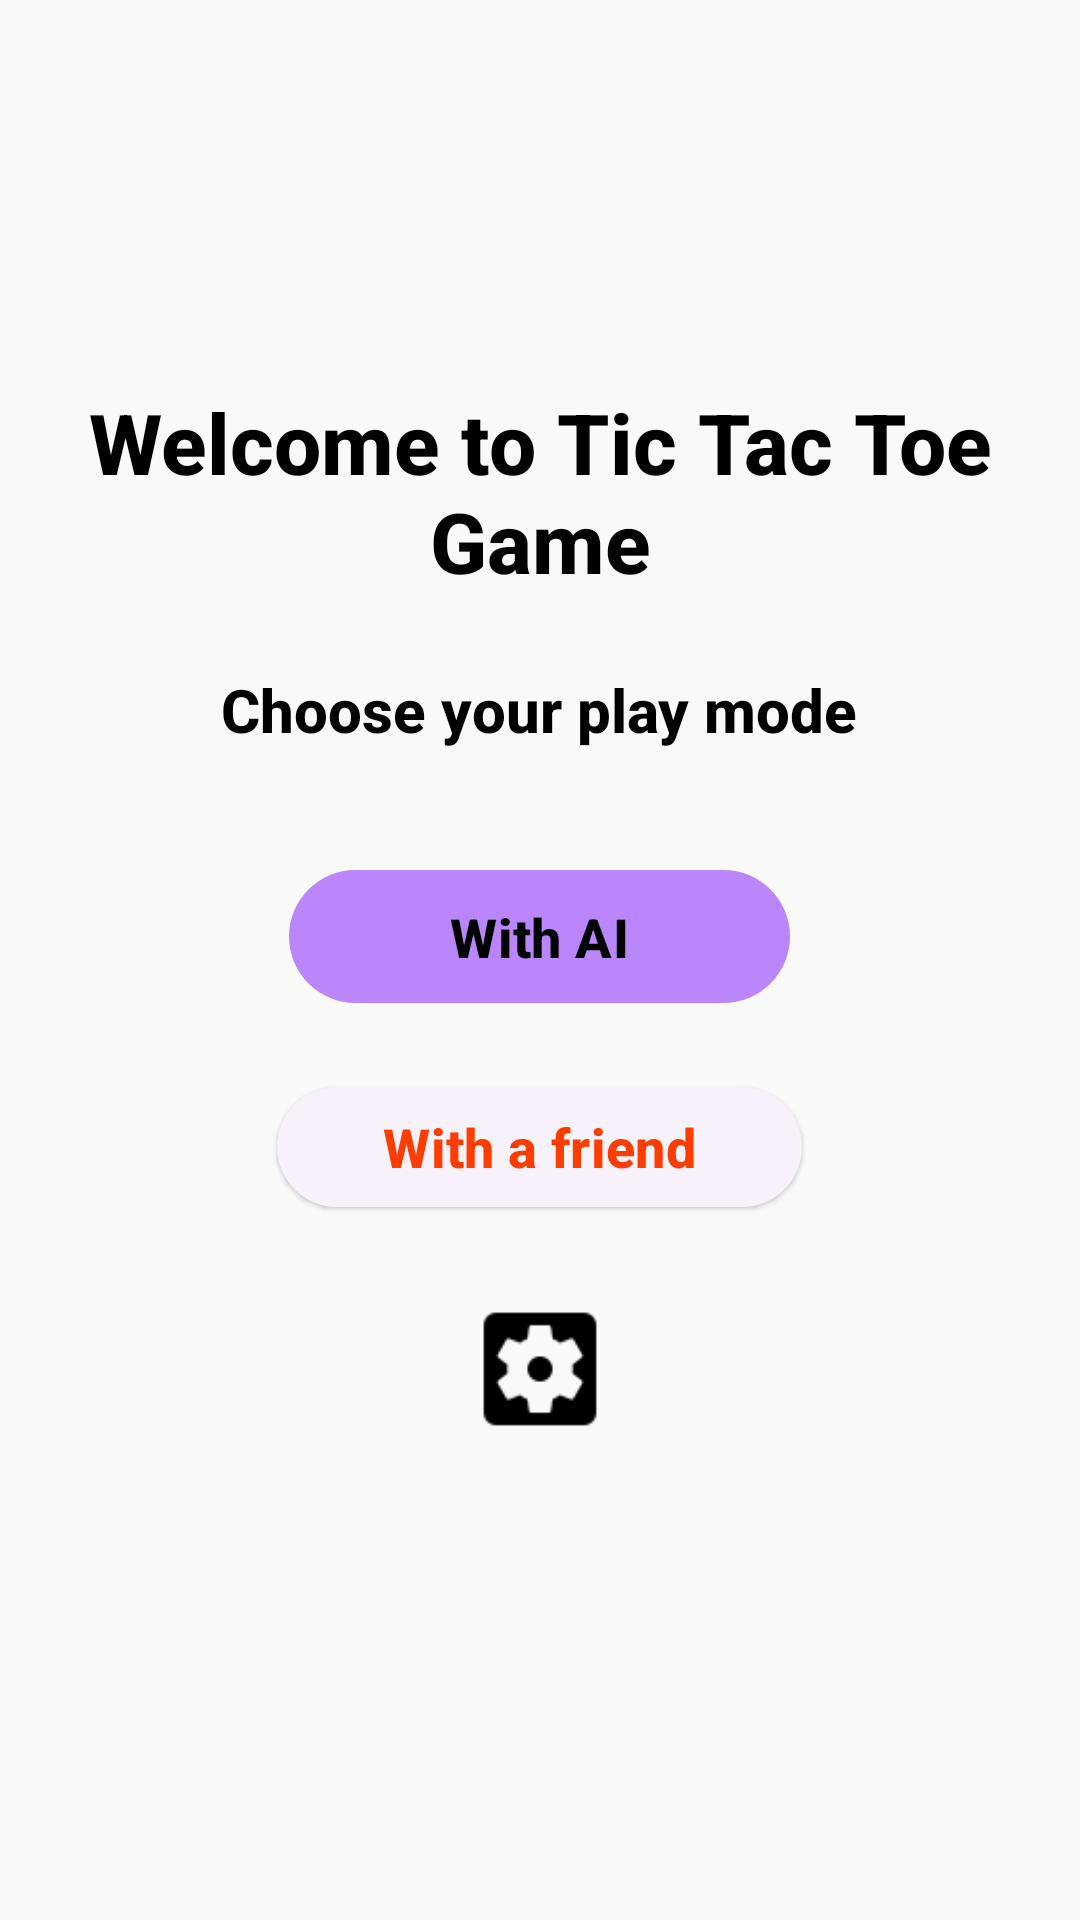

Point at icon controls on the screen. Image size 1080px×1920px, points as point (x, y).
settings applications: point (540, 1369)
